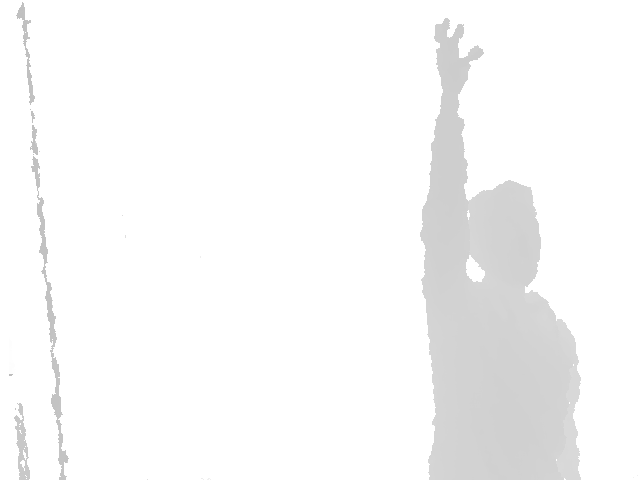hand: (433, 18, 486, 97)
head: (466, 180, 541, 288)
person: (419, 18, 582, 480)
